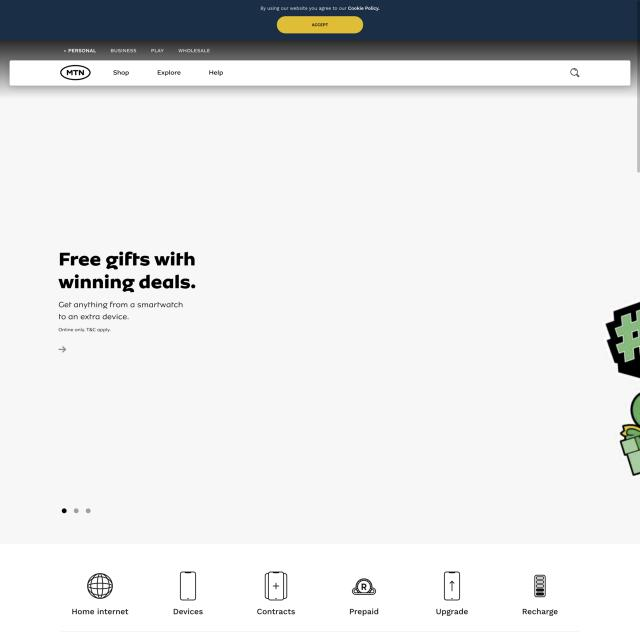logo: (59, 64, 93, 81)
navigation: (59, 562, 566, 628), (109, 67, 227, 80), (62, 46, 214, 56)
